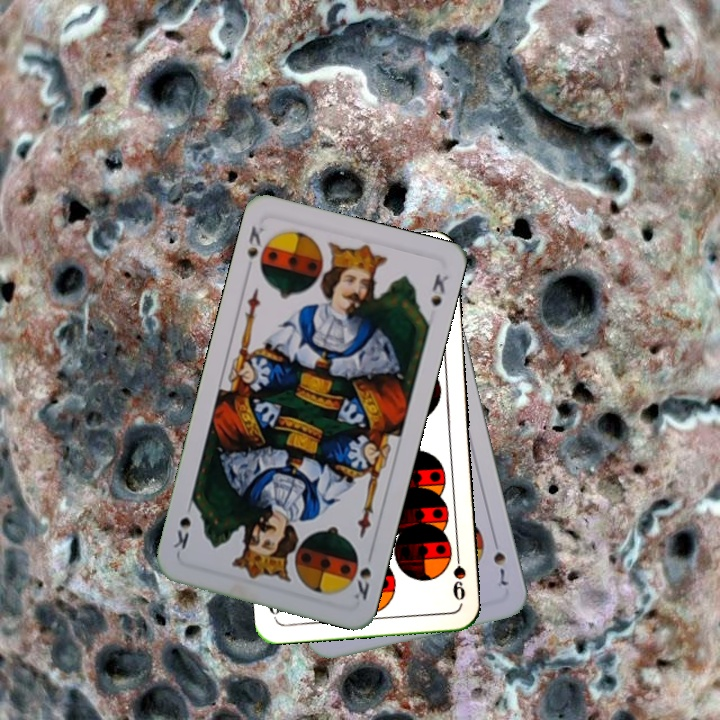S7: (489, 533, 510, 589)
S9: (448, 545, 469, 603)
SK: (242, 221, 267, 276), (350, 563, 374, 605)
